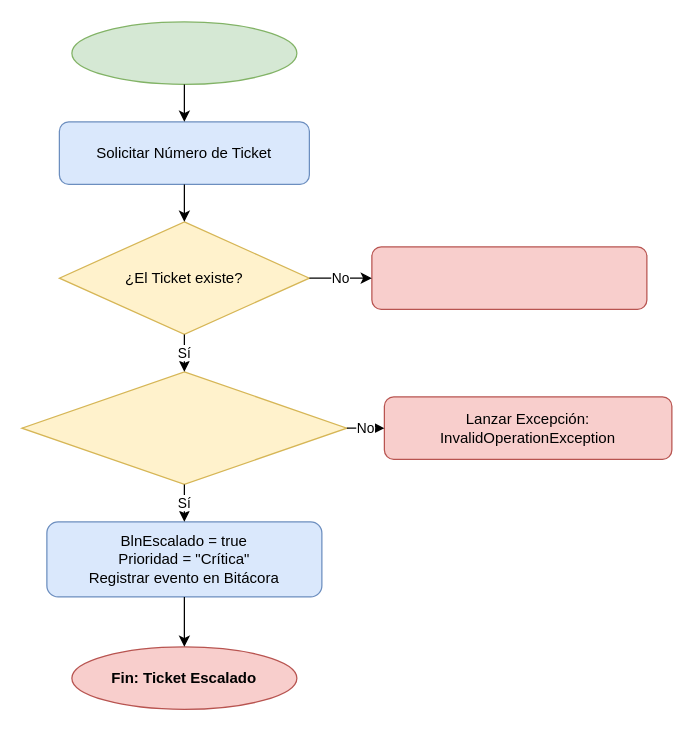
This 694x731 diagram has some shape labels left out. Here are the shapes that lost their labels. From the top down, the box of each, then its label:
(71, 21, 297, 84): Inicio: Escalar Ticket
(371, 246, 647, 309): Lanzar Excepción: KeyNotFoundException
(21, 371, 347, 484): ¿Estado != "Cerrado" y != "Resuelto"?
